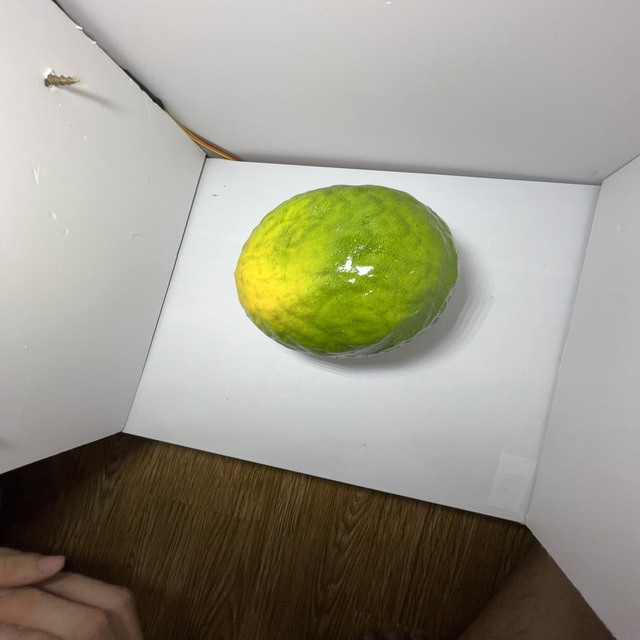Cam xanh: (232, 180, 463, 370)
